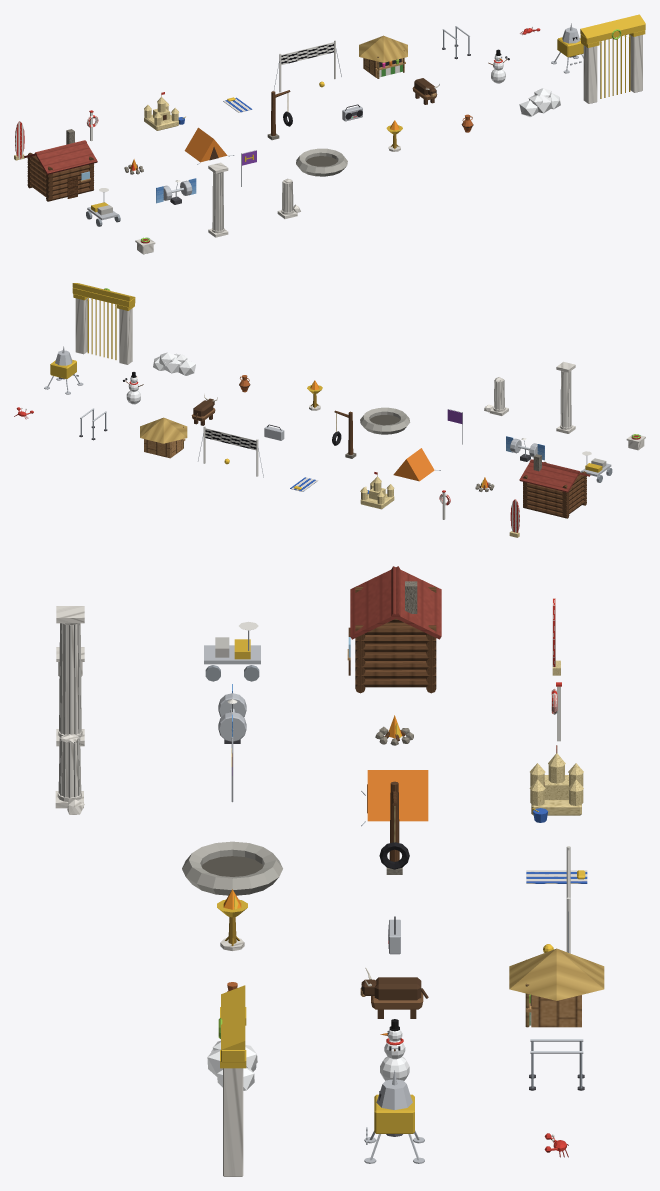
Rendered from Props_Zones.fbx.
3 renders of one model, top to bottom at view 1: azimuth 30°, elevation 25°; view 2: azimuth 150°, elevation 25°; view 3: azimuth 270°, elevation 25°, orthographic. The views are drawn at different scales.
Parts seen in each view (by area): view 1: GoldenGate, LogCabin, BeachHut, Crater, GreekColumn, VolleyballNet, Tent, Sandcastle, Cloud, LunarLander, SatelliteDumbbell, GreekColumnBroken (+4 smaller); view 2: GoldenGate, LogCabin, BeachHut, Crater, GreekColumn, VolleyballNet, Tent, Sandcastle, LunarLander, Cloud, SatelliteDumbbell, GreekColumnBroken (+3 smaller); view 3: LogCabin, BeachHut, GoldenGate, Crater, GreekColumn, Tent, Sandcastle, LunarLander, Yak, MoonRover, GreekColumnBroken, TireOnRope (+4 smaller).
Boxes of the visible parts, x1,y1,x2,y2 form: GoldenGate: (580,14,645,103); LogCabin: (24,129,97,201); BeachHut: (359,35,407,78); Crater: (296,148,347,176); GreekColumn: (208,162,228,237); VolleyballNet: (273,40,341,92); Tent: (184,127,234,164); Sandcastle: (144,92,185,130); Cloud: (519,88,560,116); LunarLander: (551,23,583,73); SatelliteDumbbell: (156,178,196,204); GreekColumnBroken: (277,178,300,218); GoldenGate: (72,283,135,364); LogCabin: (519,454,590,518); BeachHut: (140,417,187,458); Crater: (360,407,410,434); GreekColumn: (556,361,575,433); VolleyballNet: (198,426,263,477); Tent: (393,448,440,481); Sandcastle: (360,472,394,509); LunarLander: (44,346,83,394); Cloud: (153,352,195,375); SatelliteDumbbell: (506,436,544,461); GreekColumnBroken: (484,377,508,415); LogCabin: (347,566,441,693); BeachHut: (509,948,604,1027); GoldenGate: (218,985,246,1176); Crater: (182,841,282,895); GreekColumn: (56,606,84,746); Tent: (361,770,428,826); Sandcastle: (529,745,583,822); LunarLander: (364,1070,424,1163); Yak: (360,967,428,1018); MoonRover: (204,621,260,681); GreekColumnBroken: (55,734,84,814); TireOnRope: (379,781,409,874).
Size of the model in its own units: 124 by 15.1 by 54.12.
Materials: 1 (1 with a texture image).
